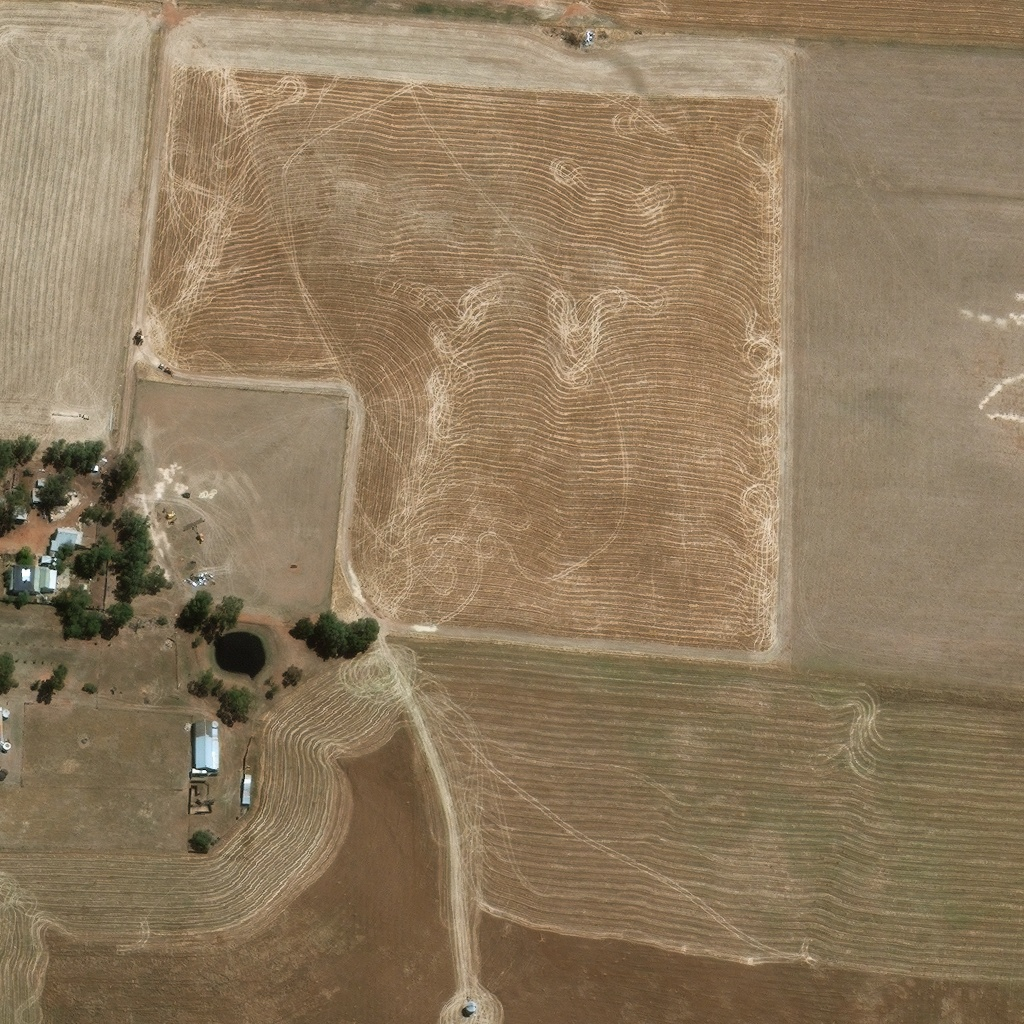0 no-damage: (195, 718, 219, 768), (12, 563, 57, 587), (51, 524, 84, 548), (243, 773, 253, 801), (12, 501, 28, 516), (34, 486, 45, 499), (42, 549, 54, 560), (3, 738, 13, 746), (37, 474, 46, 482), (81, 579, 88, 586)
3 destroyed: (13, 481, 27, 497)
4 un-classified: (73, 565, 83, 574)
